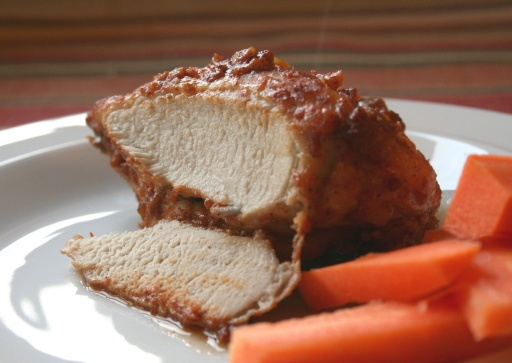background: (48, 26, 409, 205)
